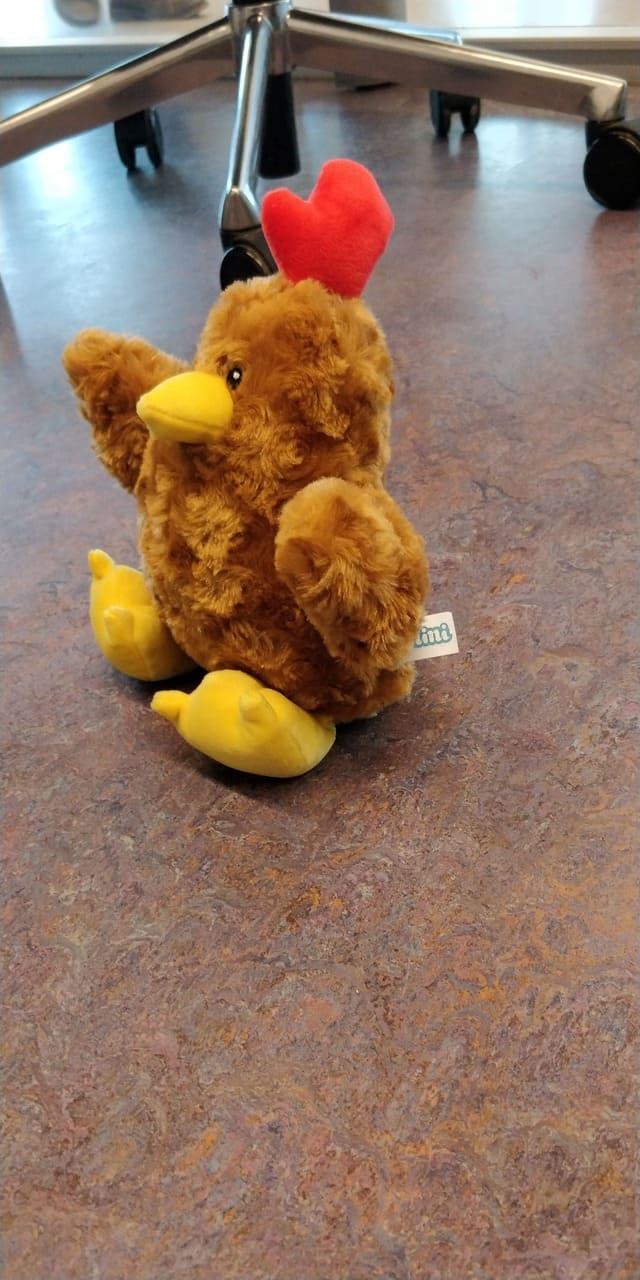fakeChicken: (60, 157, 462, 782)
